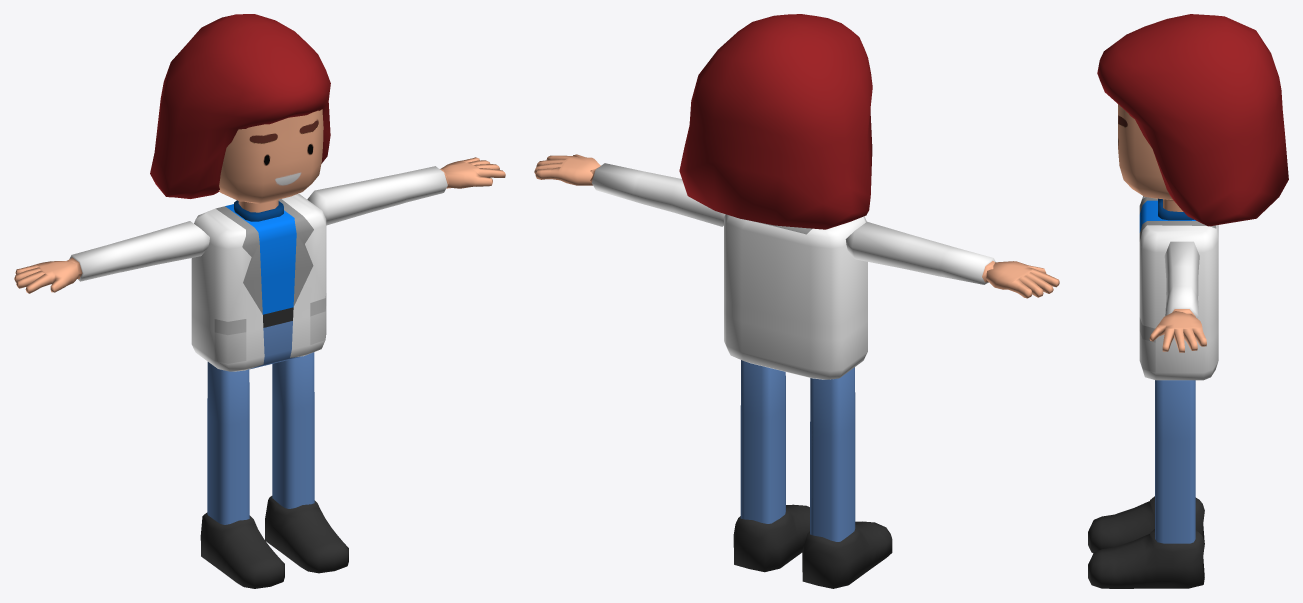
File: NPC_White01_RedHair06.gltf
3 views of the same model, side by side, from view 1: azimuth 30°, elevation 25°; view 2: azimuth 150°, elevation 25°; view 3: azimuth 270°, elevation 25° (orthographic). The views are drawn at different scales.
Parts seen in each view (by area): view 1: NPC_Corpo_White1_RedHair.006; view 2: NPC_Corpo_White1_RedHair.006; view 3: NPC_Corpo_White1_RedHair.006.
Boxes of the visible parts, left/top/right/bottom form: NPC_Corpo_White1_RedHair.006: left=14, top=14, right=505, bottom=588; NPC_Corpo_White1_RedHair.006: left=534, top=14, right=1059, bottom=588; NPC_Corpo_White1_RedHair.006: left=1088, top=14, right=1288, bottom=588.
Size of the model in its own units: 2.31 by 2.37 by 0.7967.
1 material, 1 textured.
